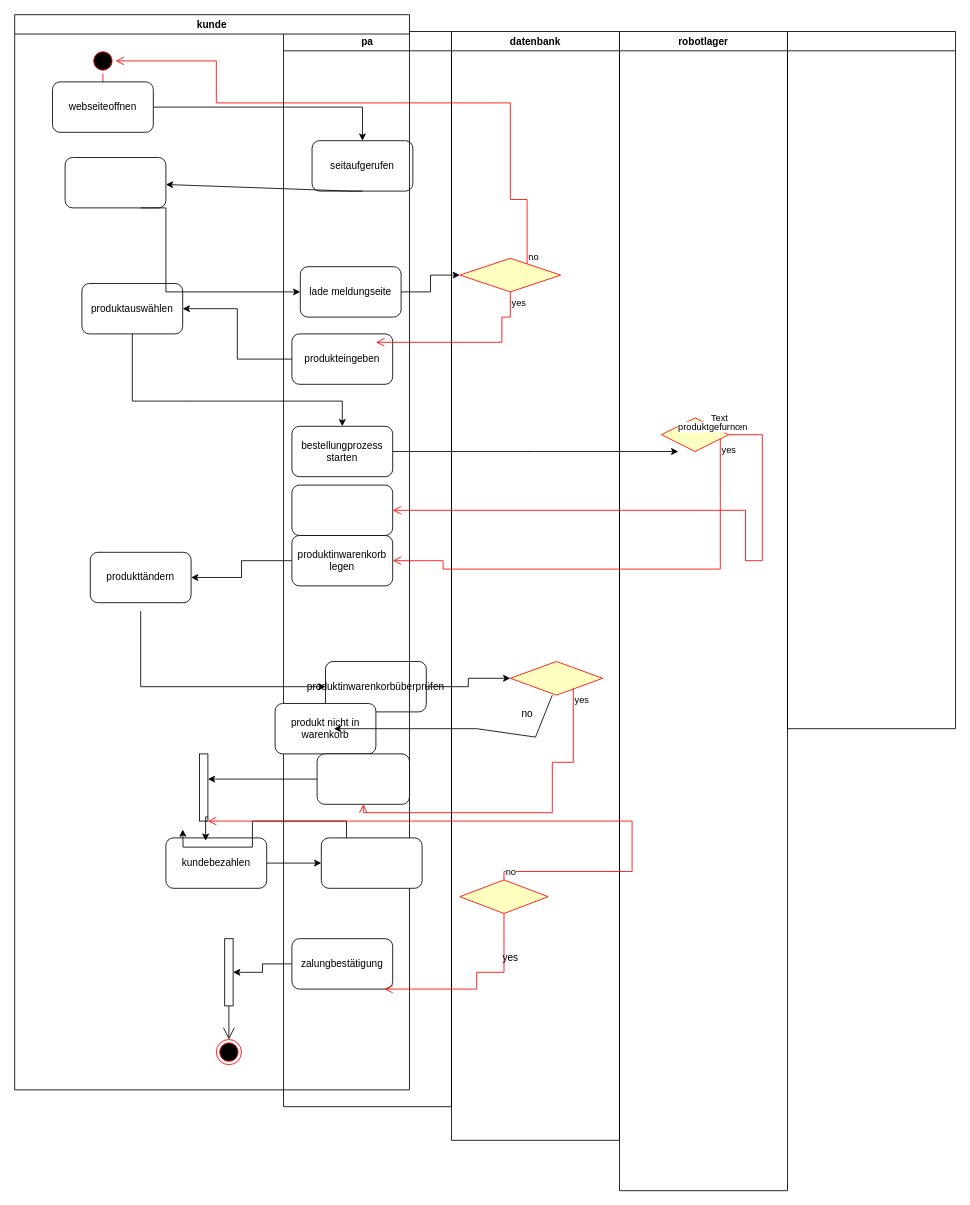
Image size: 970x1205. Some labels were removed from this diagram. Each missing label, with the centre of its shape:
kundeanmelden: the point at 115,182
kundedatei vorhanden: the point at 510,274
paypal oder kreditkarte bezahlen: the point at 371,862
produktinwarenkorb: the point at 556,678
produktnichtgefunden: the point at 342,510
verpackungsystem: the point at 871,380
zahlungerfolgreich: the point at 503,896
ändernprodukt oder entfernen auswälen: the point at 363,778
